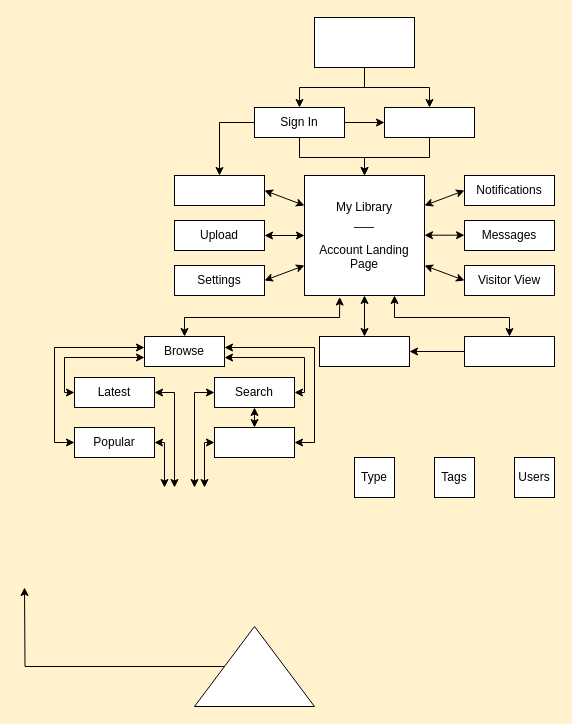
Image size: 572x724. Some labels were removed from this diagram. The box of each missing label's shape, as (x1, y1, x2, y2) in pixels:
Create Account: (174, 174, 264, 206)
Enter As Guest: (384, 106, 474, 138)
File Pages: (318, 336, 410, 366)
Following: (464, 336, 554, 366)
Input / Scan Qr Code: (214, 426, 294, 458)
Open Application: (314, 16, 414, 68)
Results Landing Page: (194, 626, 314, 706)
